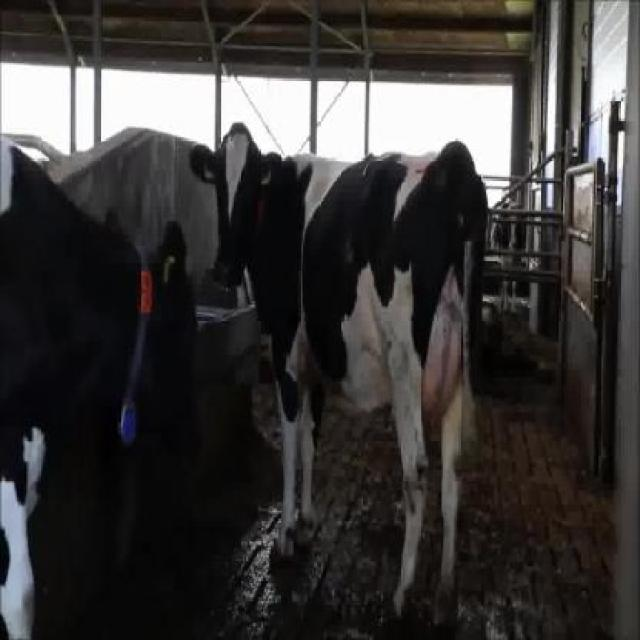Cow: (186, 120, 491, 635), (0, 135, 198, 638)
